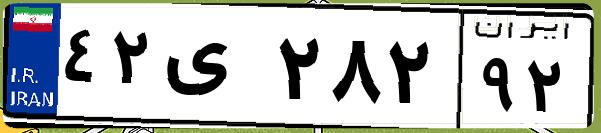2: (270, 28, 330, 110), (385, 28, 445, 110), (525, 38, 570, 115), (110, 28, 158, 98)
4: (57, 26, 110, 100)
8: (330, 28, 385, 110)
9: (475, 38, 525, 113)
ی: (158, 20, 270, 120)
